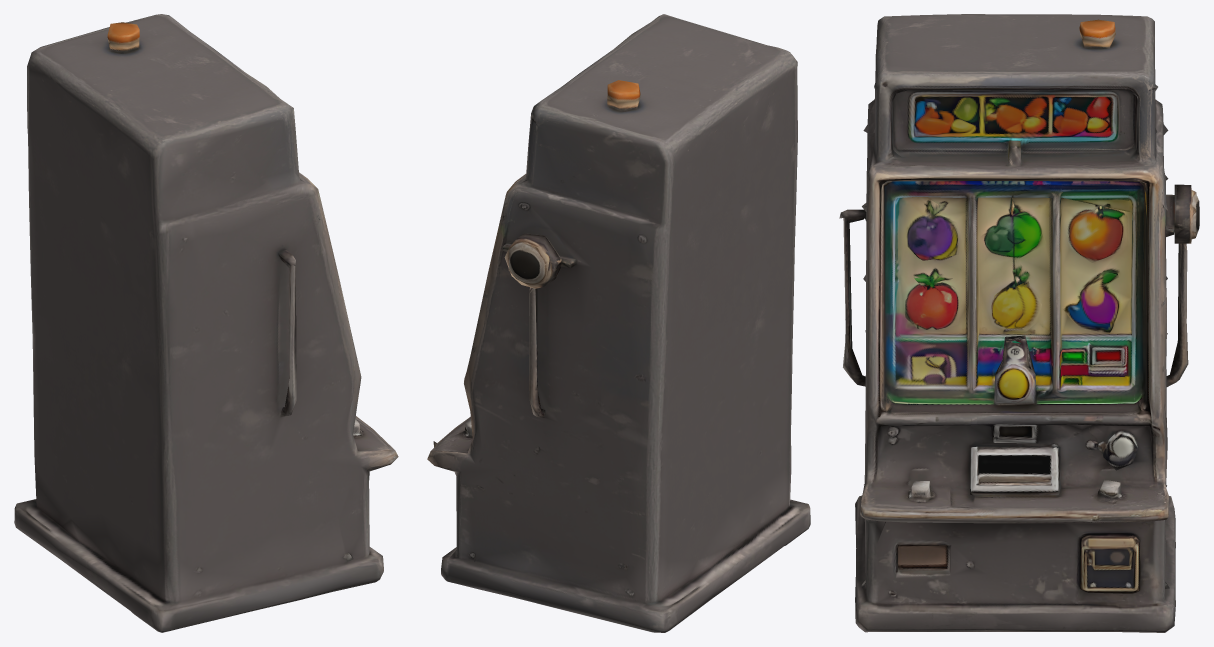
File: tragaperras.glb
The picture shows the model from 3 angles, left to right: view 1: azimuth 30°, elevation 25°; view 2: azimuth 150°, elevation 25°; view 3: azimuth 270°, elevation 25°; orthographic projection. The views are drawn at different scales.
Visible parts, largest first — view 1: tripo_node_72ea4366-6e5e-46aa-b5a1-db55360ed83a; view 2: tripo_node_72ea4366-6e5e-46aa-b5a1-db55360ed83a; view 3: tripo_node_72ea4366-6e5e-46aa-b5a1-db55360ed83a.
Part boxes in pixels (x1,y1,x2,y2): tripo_node_72ea4366-6e5e-46aa-b5a1-db55360ed83a: (14,14,398,632); tripo_node_72ea4366-6e5e-46aa-b5a1-db55360ed83a: (427,14,810,632); tripo_node_72ea4366-6e5e-46aa-b5a1-db55360ed83a: (839,14,1199,632).
Size of the model in its own units: 0.5143 by 1 by 0.612.
1 material, 1 textured.
